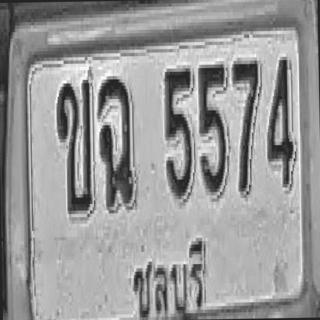A02: (56, 78, 93, 212)
A09: (98, 77, 134, 208)
N04: (265, 55, 294, 186)
N05: (197, 61, 228, 195), (163, 65, 193, 199)
N07: (231, 57, 262, 194)
